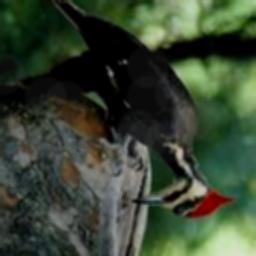Woodpecker: (50, 0, 234, 217)
